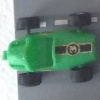carro: (4, 13, 100, 85)
